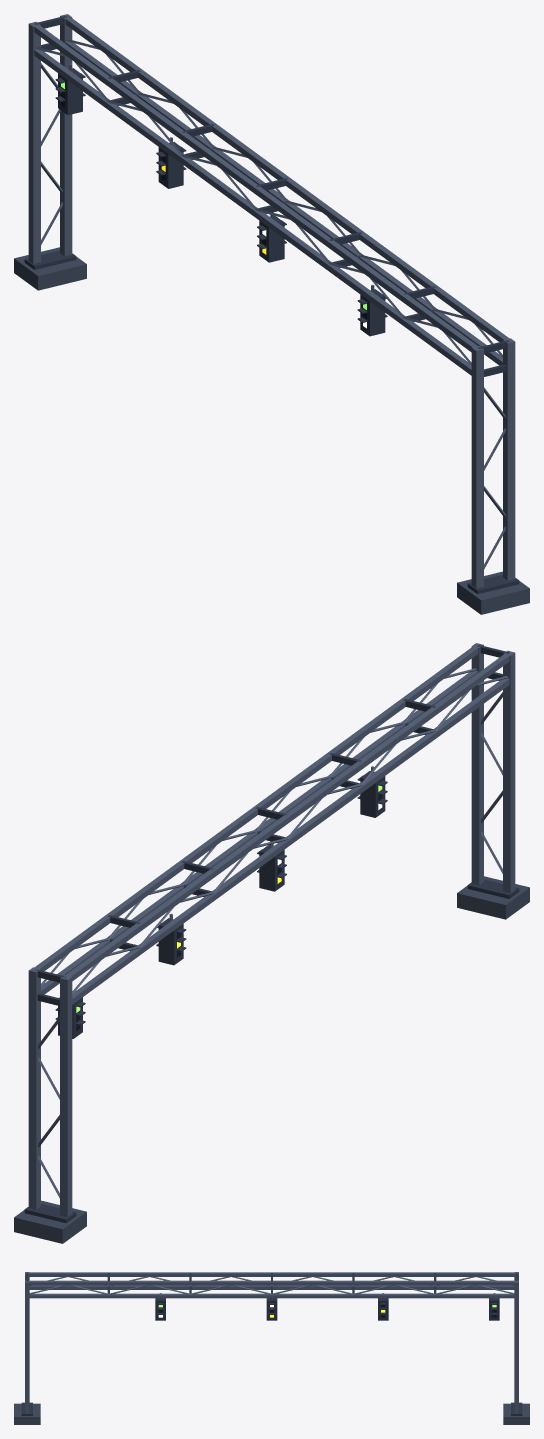
File: rail_signal_gantry.glb
3 renders of one model, top to bottom at view 1: azimuth 30°, elevation 25°; view 2: azimuth 150°, elevation 25°; view 3: azimuth 270°, elevation 25°, orthographic. The views are drawn at different scales.
Parts seen in each view (by area): view 1: truss, signal_head, footing; view 2: truss, signal_head, footing; view 3: truss, signal_head, footing.
Boxes of the visible parts, box(x1,y1,x2,y2) form: truss: box(28, 14, 515, 588); signal_head: box(24, 16, 519, 594); footing: box(14, 247, 529, 614); truss: box(28, 643, 515, 1217); signal_head: box(24, 645, 519, 1223); footing: box(14, 876, 529, 1243); truss: box(25, 1272, 518, 1413); signal_head: box(21, 1273, 522, 1415); footing: box(14, 1403, 529, 1424).
Size of the model in its own units: 1.4 by 7 by 23.2.
